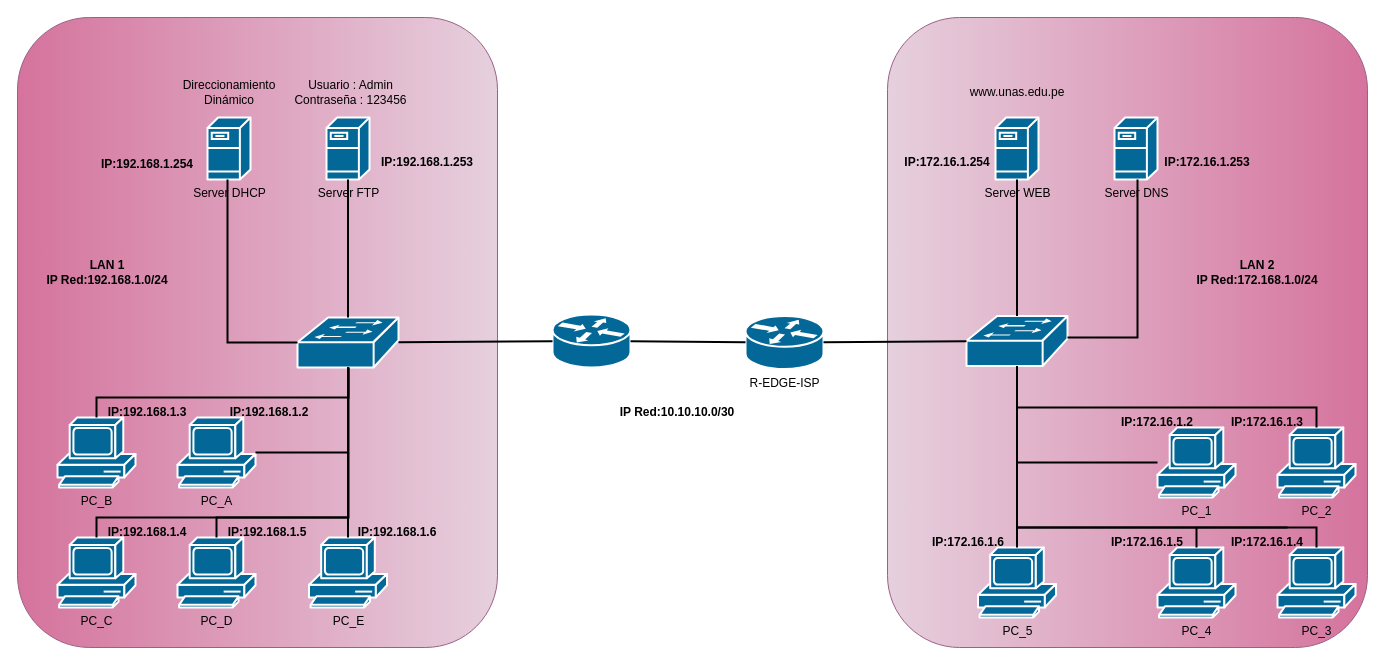
Some shapes in this 1385 by 665 pixel diagram are drawn without their labels. The shapes that lost their labels are listed below. From the top down, each one's centre as x and y in pixels, then its label:
At [347,342]: "Switch_A".
At [591,340]: "R-ASBR-BGP".
At [1016,340]: "Switch_B".
